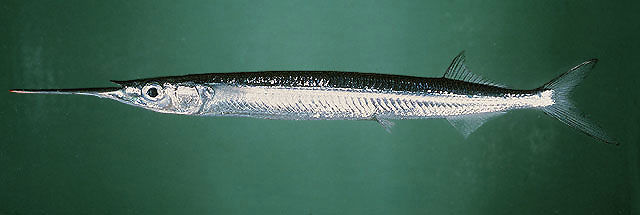fish: (10, 51, 619, 148)
